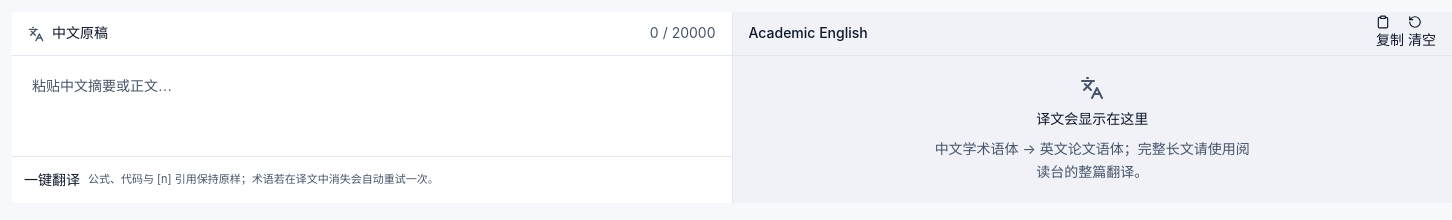
Test: academic translation › posts the Chinese text and renders the English result
Type "我们提出一种可溯源的检索器。" into the text box with test id "translate-source". click: (372, 106)
box: [12, 56, 732, 156]
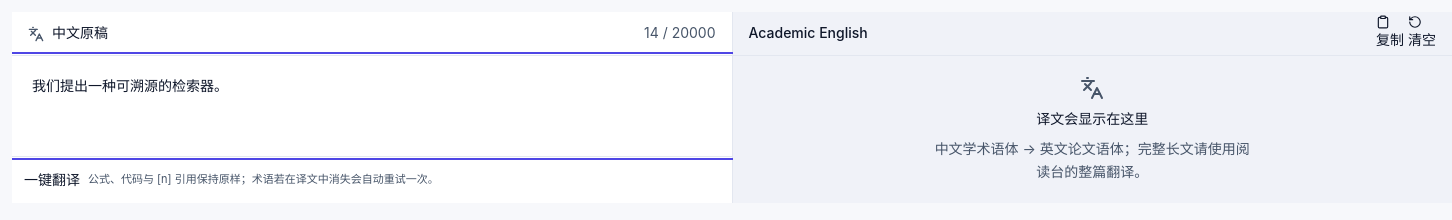
Click the button with test id "translate-run". click: (52, 180)
box: [24, 169, 80, 191]
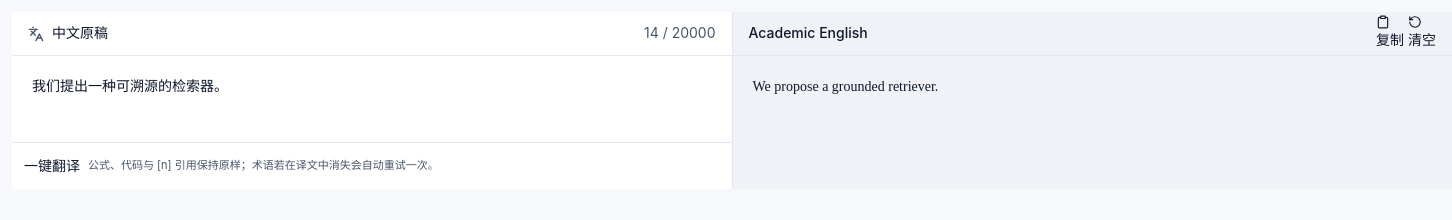
Check: the button with test id "translate-copy" is enabled, box [1376, 15, 1404, 52]
Check: the text with test id "translate-target" reads "We propose a grounded retriever.", box [752, 79, 938, 94]
